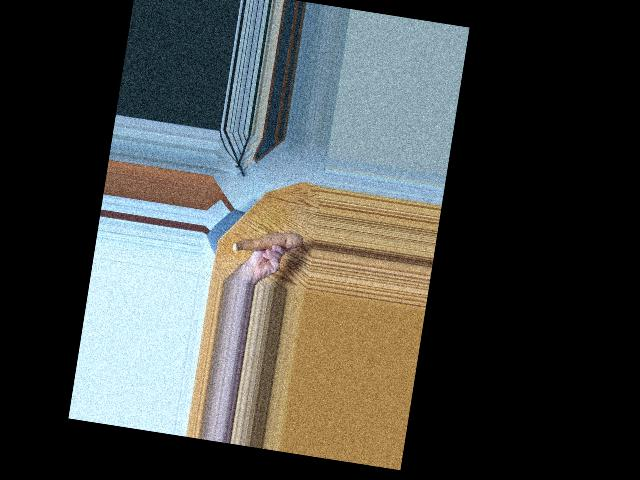sweet_potato: (230, 221, 302, 263)
